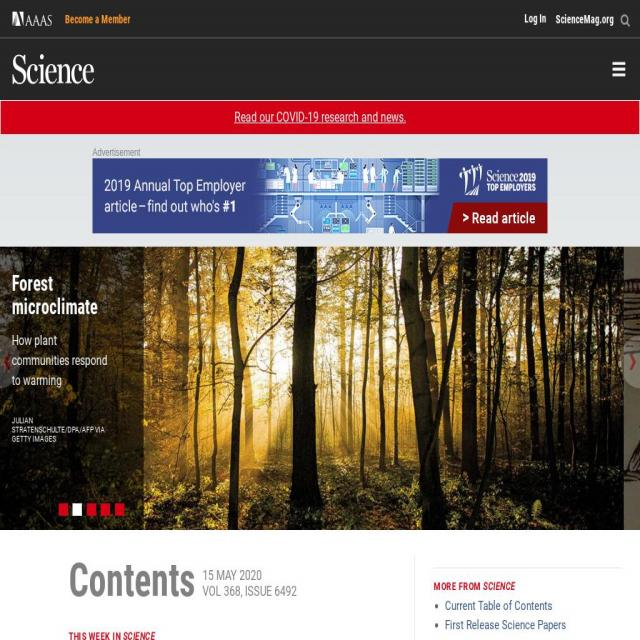login-option: (521, 8, 551, 28)
options: (601, 52, 640, 86)
search: (620, 10, 635, 32)
